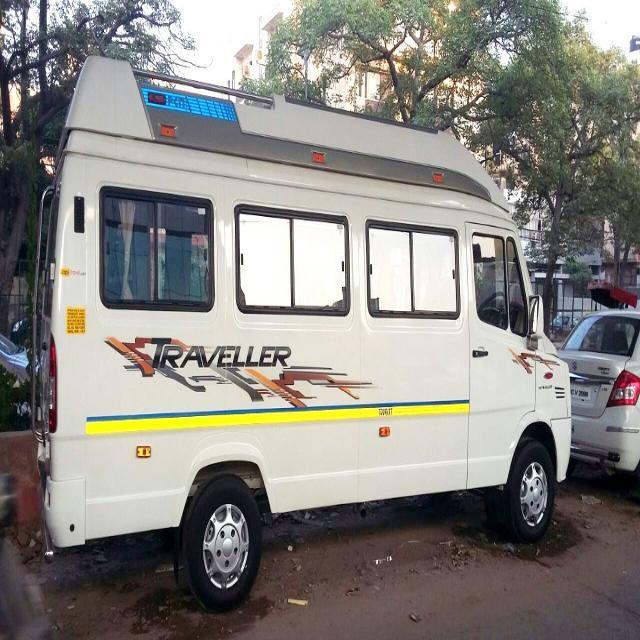car: (554, 304, 638, 486)
van: (28, 50, 576, 618)
